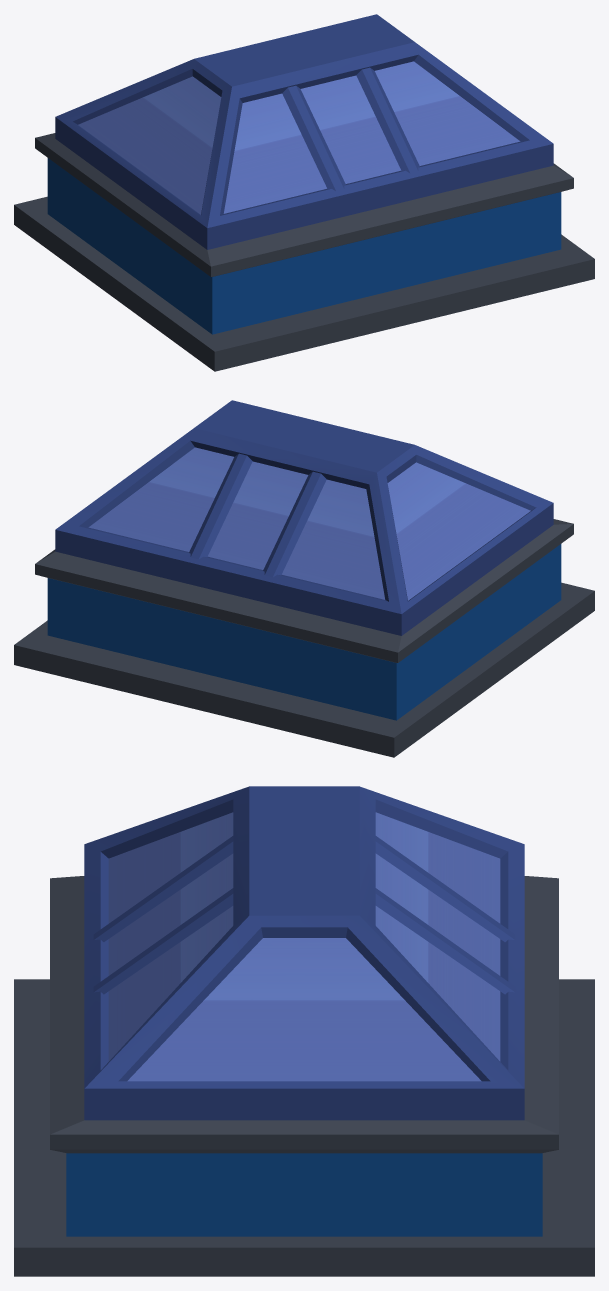
The model's file is RoofLights_4_E.fbx.
3 views of the same model, one above another, from view 1: azimuth 30°, elevation 25°; view 2: azimuth 150°, elevation 25°; view 3: azimuth 270°, elevation 25° (orthographic). The views are drawn at different scales.
Parts seen in each view (by area): view 1: RoofLights_4_E; view 2: RoofLights_4_E; view 3: RoofLights_4_E.
Boxes of the visible parts, x1,y1,x2,y2 form: RoofLights_4_E: [14, 14, 594, 371]; RoofLights_4_E: [14, 400, 594, 757]; RoofLights_4_E: [14, 786, 594, 1276].
Size of the model in its own units: 216 by 109 by 198.
